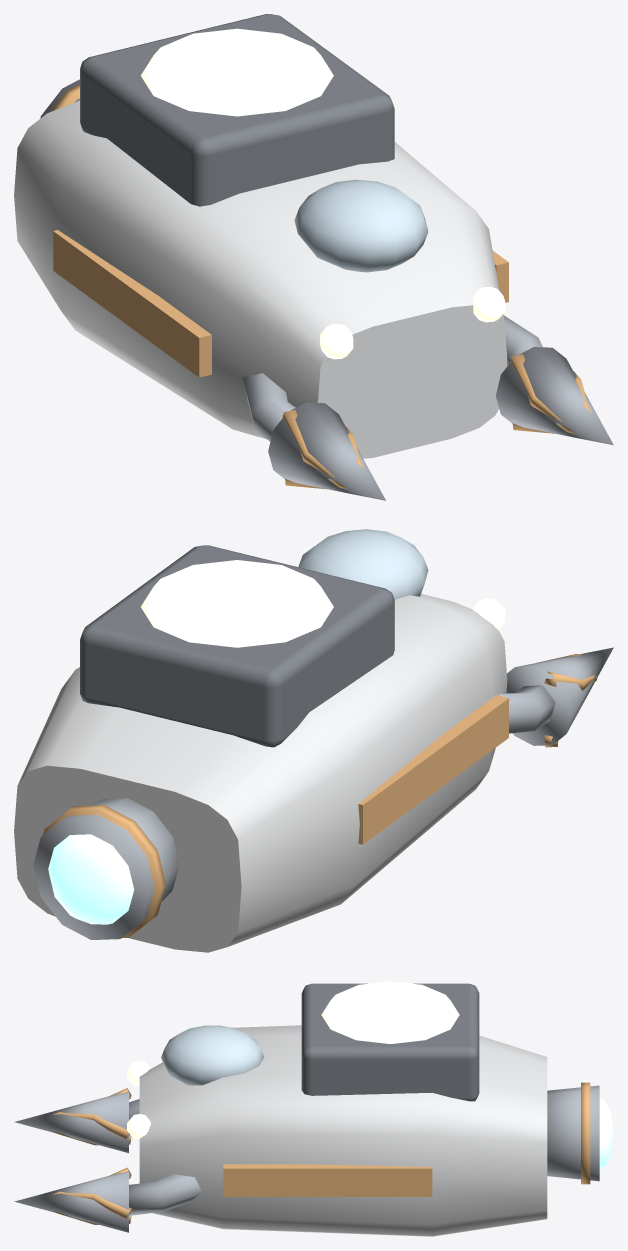
The model's file is h_miner.glb.
3 views of the same model, one above another, from view 1: azimuth 30°, elevation 25°; view 2: azimuth 150°, elevation 25°; view 3: azimuth 270°, elevation 25° (orthographic). The views are drawn at different scales.
Visible parts, largest first — view 1: hull, metal, paint, glow, canopy; view 2: hull, metal, glow, paint, canopy; view 3: hull, metal, paint, glow, canopy.
Boxes of the visible parts, bbox=[...] form: hull: bbox=[14, 100, 507, 458]; metal: bbox=[40, 14, 542, 441]; paint: bbox=[51, 84, 613, 500]; glow: bbox=[140, 28, 505, 359]; canopy: bbox=[294, 179, 428, 272]; hull: bbox=[14, 594, 507, 952]; metal: bbox=[33, 545, 555, 939]; glow: bbox=[48, 560, 505, 924]; paint: bbox=[43, 647, 613, 937]; canopy: bbox=[298, 529, 428, 599]; hull: bbox=[139, 1025, 547, 1236]; metal: bbox=[129, 983, 599, 1215]; paint: bbox=[14, 1082, 590, 1232]; glow: bbox=[127, 981, 613, 1168]; canopy: bbox=[161, 1025, 264, 1085].
Size of what is drawn, in the model's own units: 0.49 by 0.4378 by 1.15.
